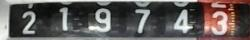digits: (87, 7, 111, 32), (172, 9, 193, 33), (134, 8, 150, 34), (210, 11, 227, 35), (21, 11, 36, 34), (58, 7, 68, 30)
